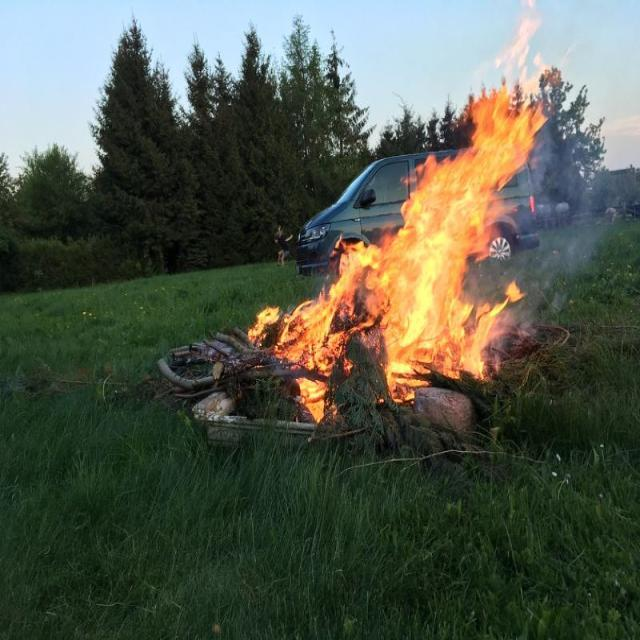Fire: (258, 291, 502, 423), (333, 173, 492, 290), (457, 56, 542, 170)
